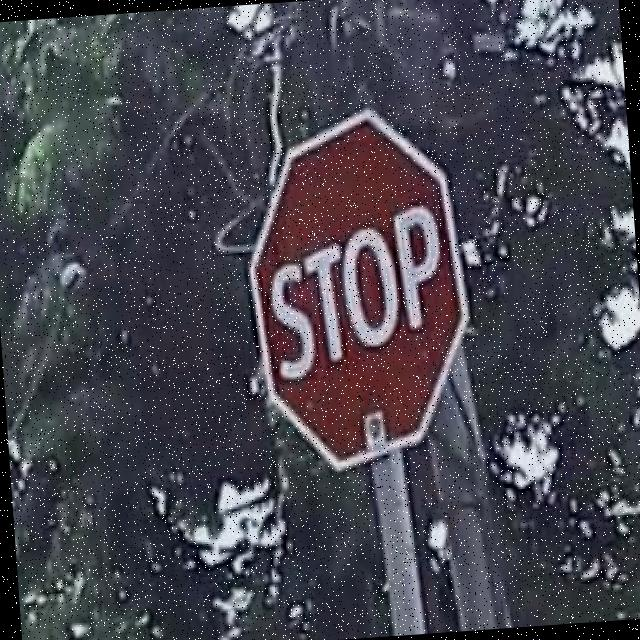Stop: (246, 118, 469, 461)
